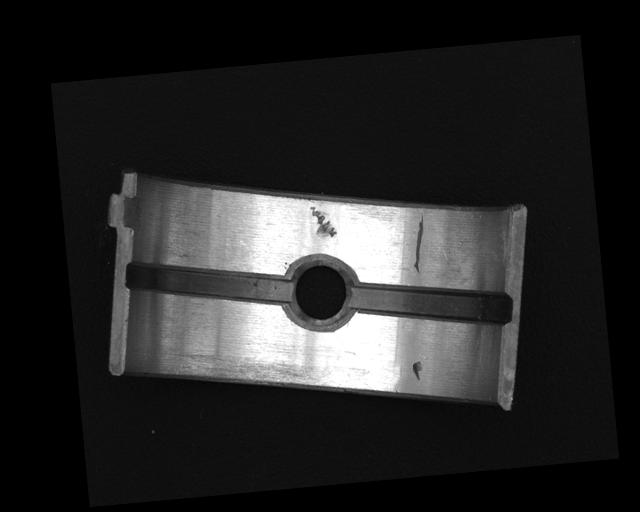bruise: (307, 204, 338, 240), (411, 359, 424, 382)
gap: (124, 249, 294, 319), (349, 272, 512, 336)
hole: (282, 256, 359, 336)
nick: (409, 212, 429, 275)
scratch: (181, 341, 324, 399)
